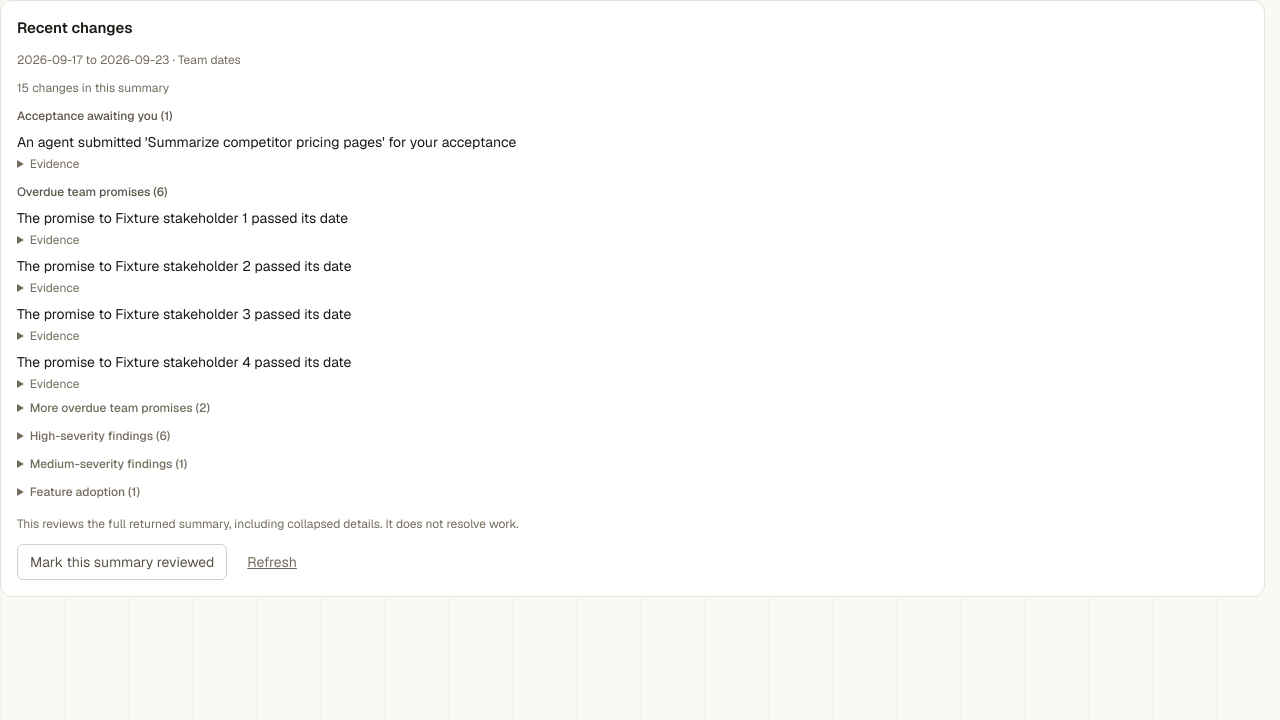
Test case: Recent changes › preserves the batch after a failed acknowledgment and permits retry
Click the button "Mark this summary reviewed".
click(122, 562)  # box top-left (17, 544), bottom-right (227, 580)
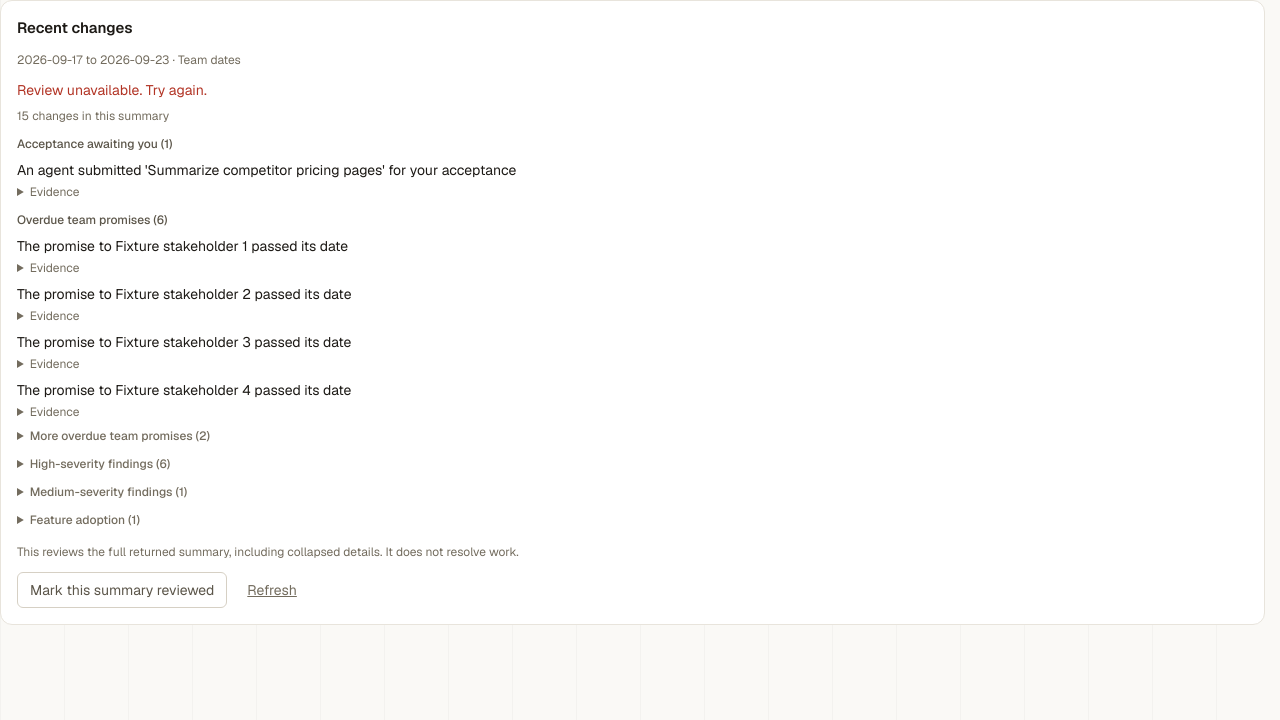
Check: the link "An agent submitted 'Summarize competitor pricing pages' for your acceptance" is shown, box top-left (17, 160), bottom-right (516, 178)
Check: the message shows "Review unavailable.", box top-left (17, 80), bottom-right (142, 98)
Click the button "Mark this summary reviewed".
click(122, 590)  # box top-left (17, 572), bottom-right (227, 608)
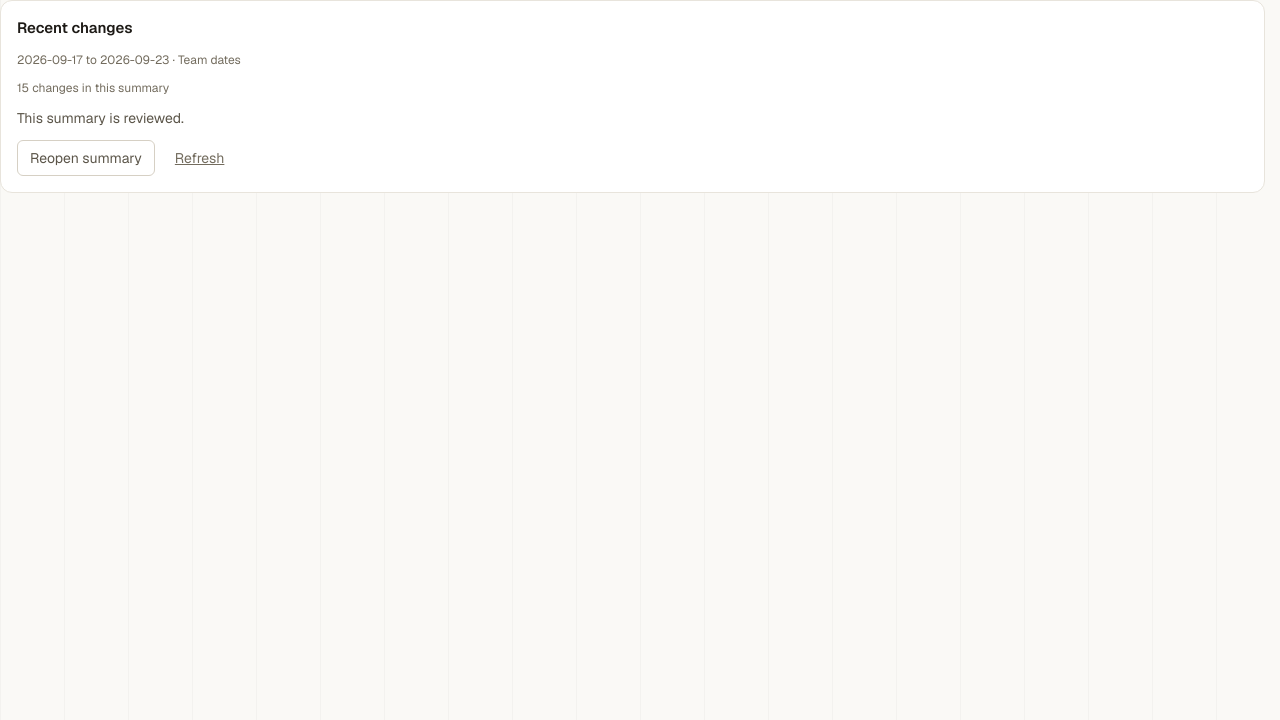
Check: the button "Reopen summary" is shown, box top-left (17, 140), bottom-right (155, 176)
